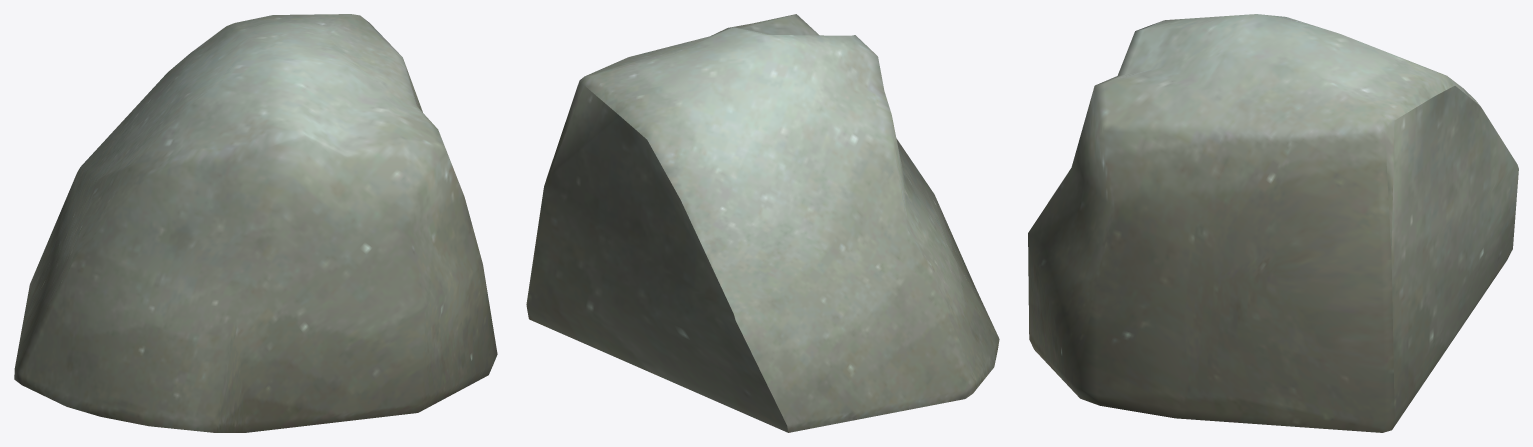
File: stoneB.glb
3 renders of one model, left to right at view 1: azimuth 30°, elevation 25°; view 2: azimuth 150°, elevation 25°; view 3: azimuth 270°, elevation 25°, orthographic. The views are drawn at different scales.
Parts seen in each view (by area): view 1: stoneB__mStoneB; view 2: stoneB__mStoneB; view 3: stoneB__mStoneB.
Part boxes in pixels (x1,y1,x2,y2): stoneB__mStoneB: (14, 14, 497, 432); stoneB__mStoneB: (526, 14, 999, 432); stoneB__mStoneB: (1028, 14, 1518, 432).
Size of the model in its own units: 9.15 by 5.87 by 8.36.
Materials: 1 (1 with a texture image).
